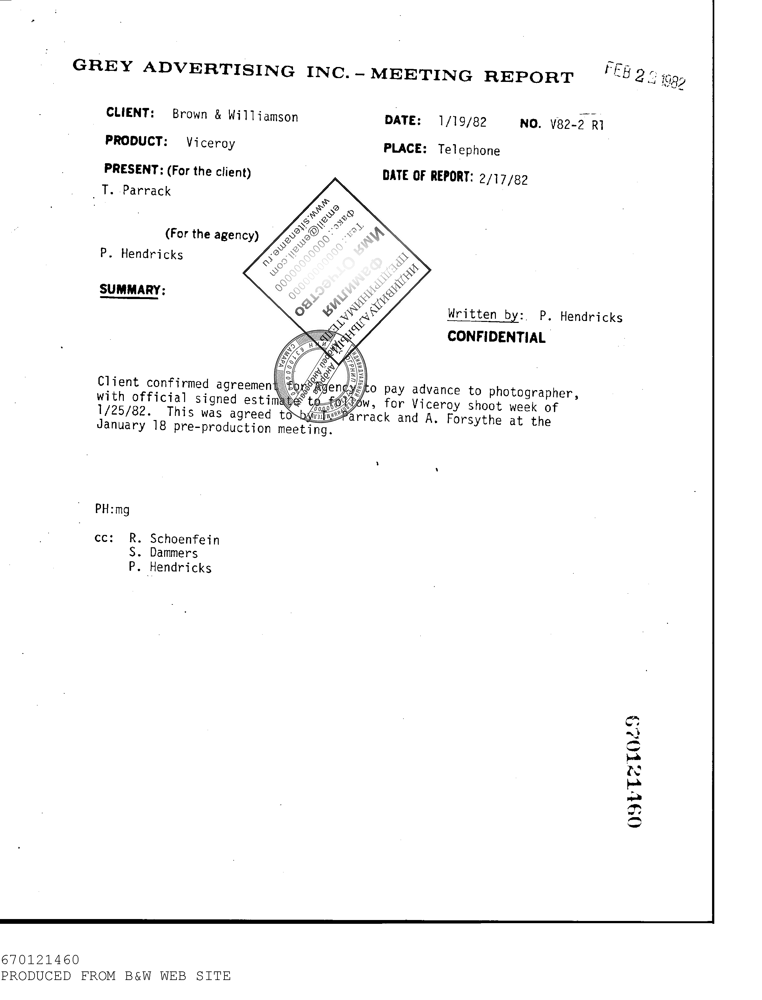circle_2: (256, 312, 385, 441)
rectangle_1: (242, 177, 432, 366)
